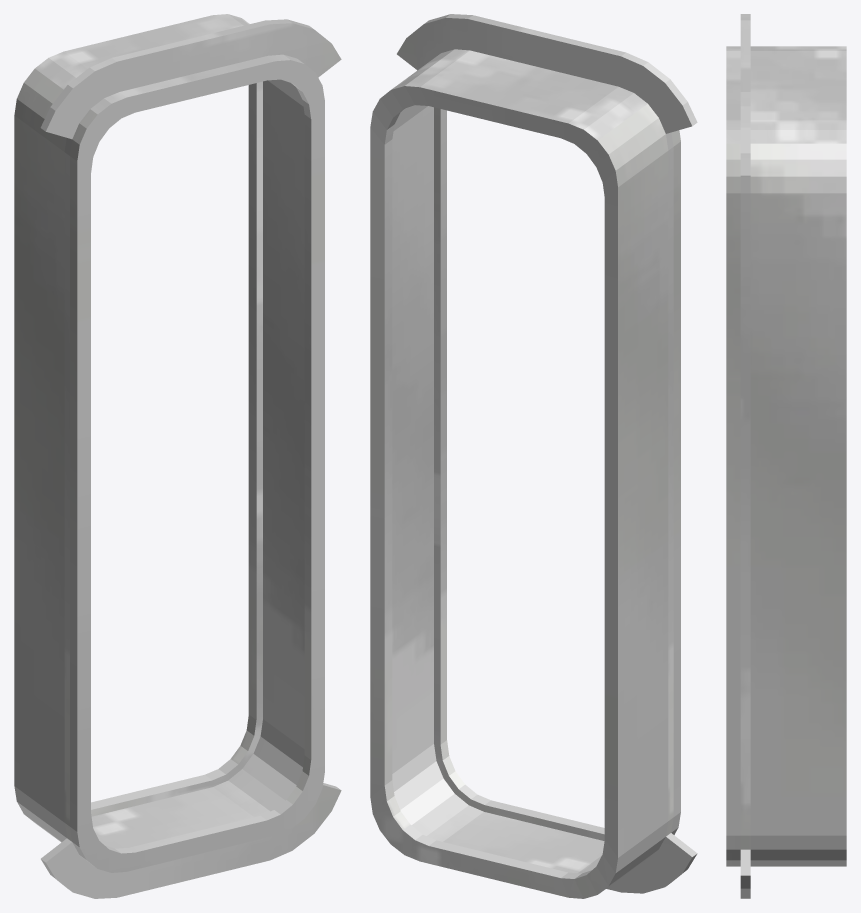
The model's file is TallWindow.fbx.
3 views of the same model, side by side, from view 1: azimuth 30°, elevation 25°; view 2: azimuth 150°, elevation 25°; view 3: azimuth 270°, elevation 25° (orthographic). The views are drawn at different scales.
Visible parts, largest first — view 1: pCube233; view 2: pCube233; view 3: pCube233.
Part boxes in pixels (bbox=[...]): pCube233: bbox=[14, 14, 341, 898]; pCube233: bbox=[370, 14, 697, 898]; pCube233: bbox=[726, 14, 846, 898].
Size of the model in its own units: 448 by 1209 by 165.
1 material, 1 textured.
